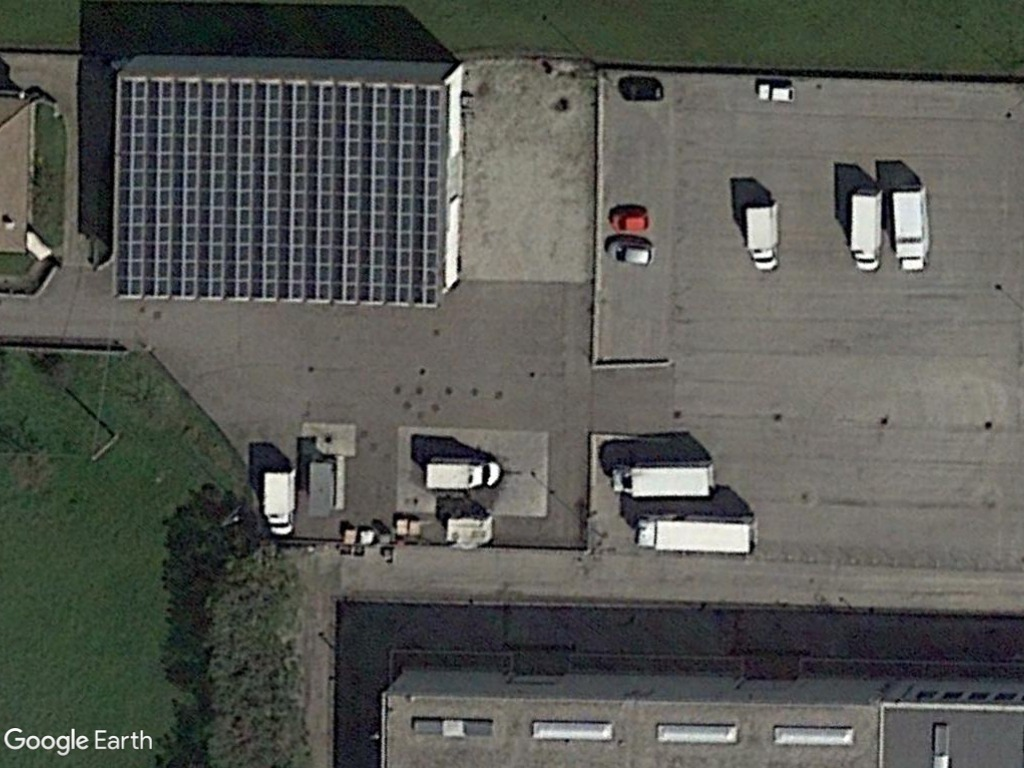car: (604, 237, 656, 266), (607, 205, 655, 235), (755, 80, 798, 104)
truck: (630, 514, 758, 557), (607, 459, 716, 502), (887, 183, 935, 272), (844, 184, 887, 273), (422, 455, 505, 494), (742, 200, 785, 274), (260, 466, 300, 539)
